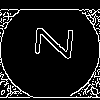Z: (25, 25, 74, 60)
